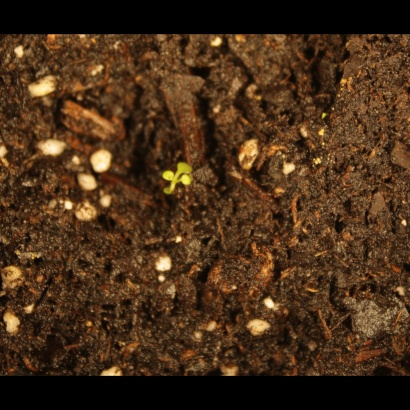leaf: (174, 153, 198, 176), (180, 175, 203, 198), (155, 169, 178, 192)
